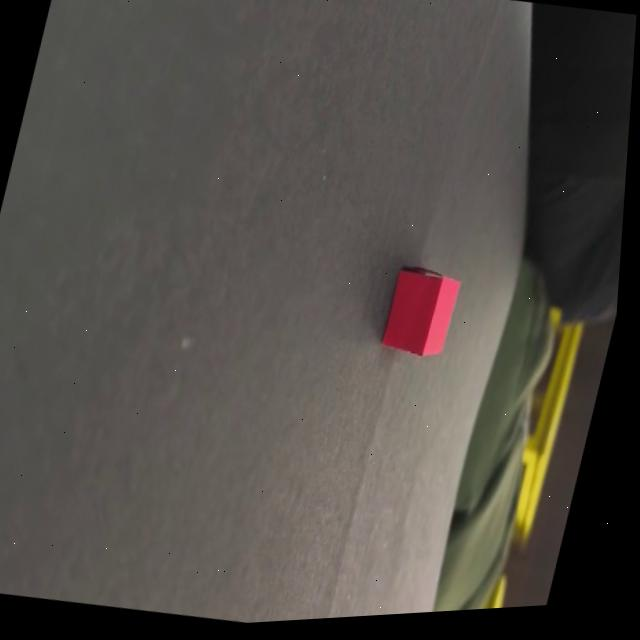red block: (378, 258, 465, 361)
